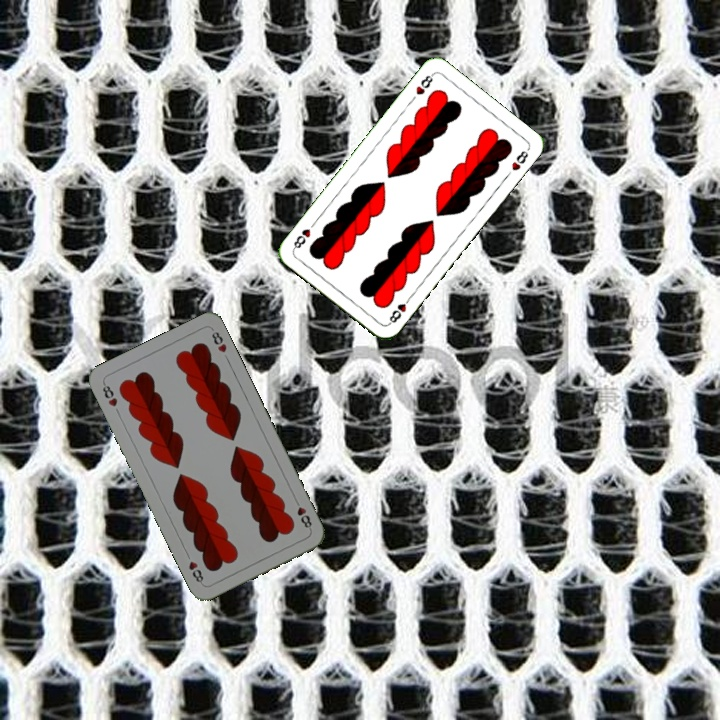H8: (384, 292, 414, 327), (290, 495, 314, 532), (412, 69, 436, 97), (98, 379, 120, 409)
